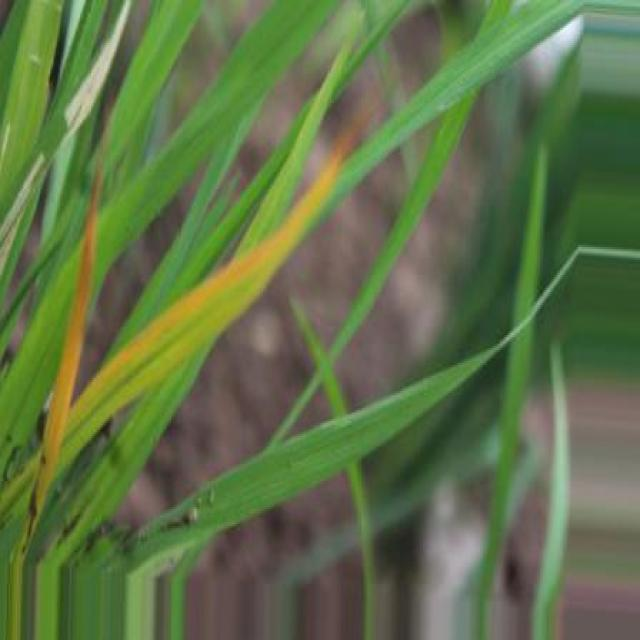Rice Tungro: (56, 156, 342, 473), (8, 169, 99, 638)
